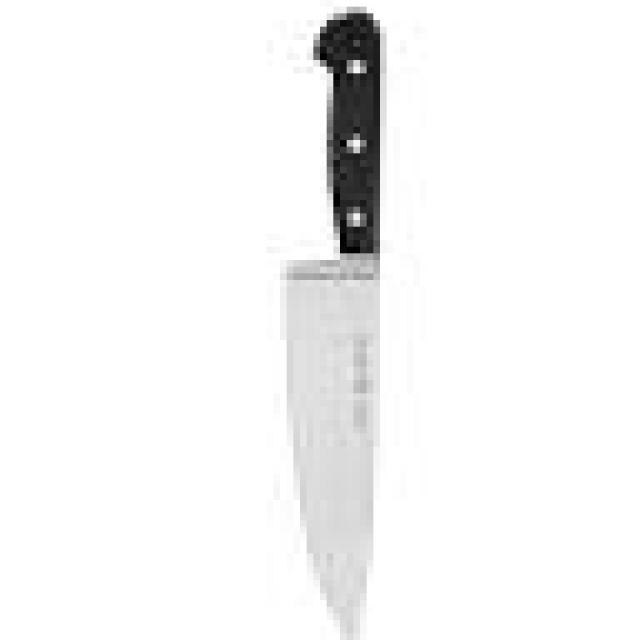Gun: (266, 7, 393, 640)
